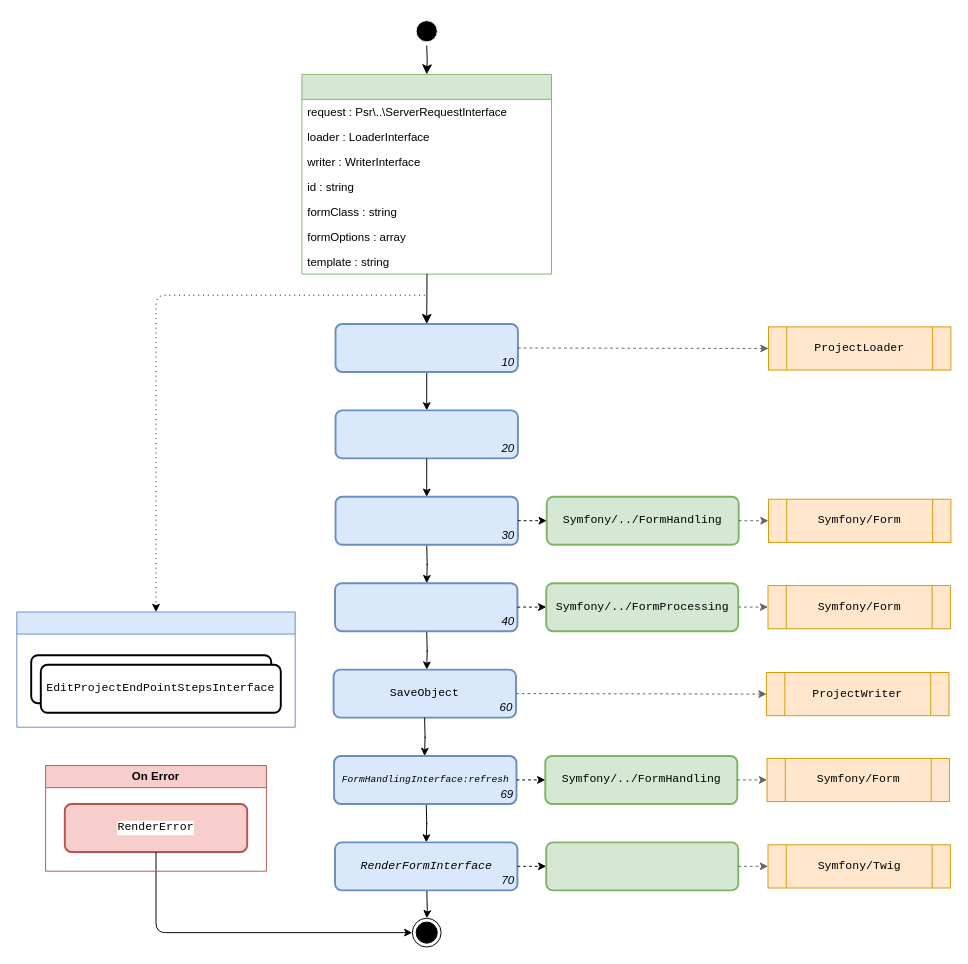
Some shapes in this 968 by 964 pixel diagram are drawn without their labels. Each missing label, with the box of its shape:
FormHandlingInterface: (334, 495, 518, 545)
FormProcessingInterface: (334, 582, 518, 632)
Ingredient: (301, 73, 552, 274)
LoadObject: (334, 323, 518, 372)
ObjectAccessControl: (334, 409, 518, 459)
Symfony/../RenderForm: (545, 841, 739, 891)
To extends, add step in: (16, 611, 295, 727)
